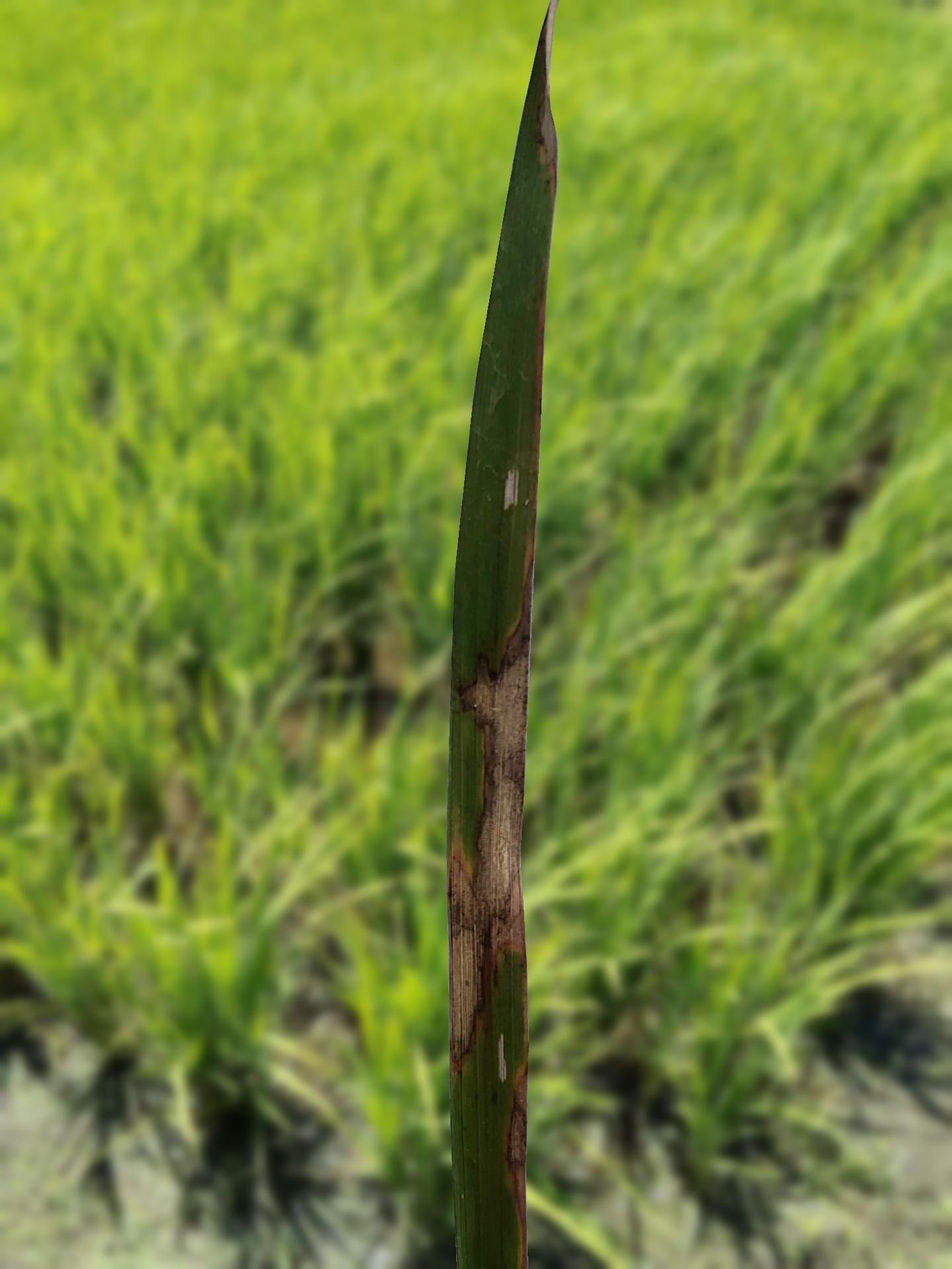BLB: (447, 261, 550, 1268)
LEAF: (447, 0, 559, 1268)
